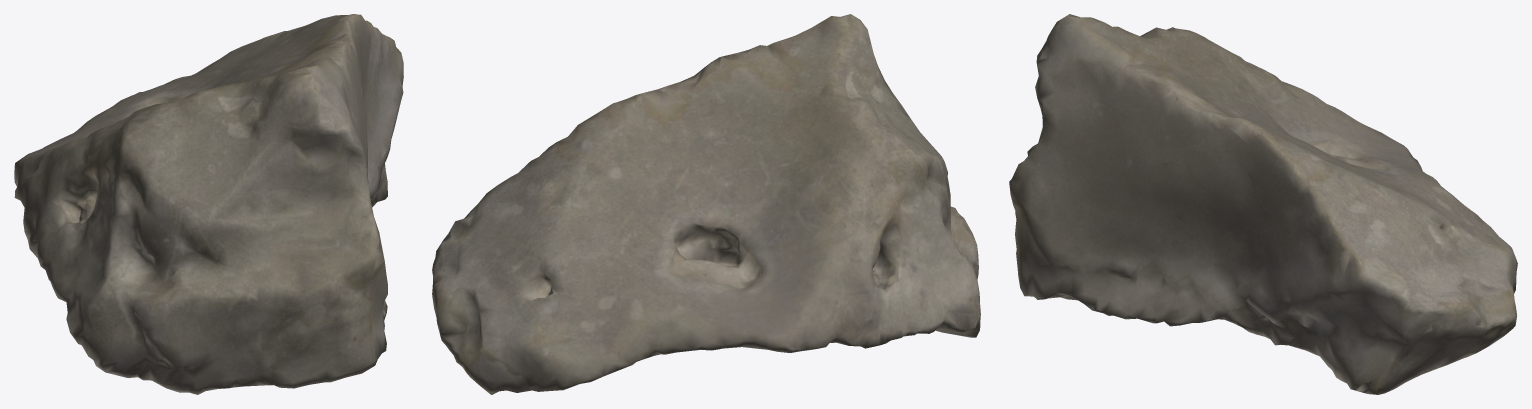
Rendered from moon_rock_06-transformed.glb.
3 views of the same model, side by side, from view 1: azimuth 30°, elevation 25°; view 2: azimuth 150°, elevation 25°; view 3: azimuth 270°, elevation 25° (orthographic). The views are drawn at different scales.
Parts seen in each view (by area): view 1: moon_rock_06_LOD0; view 2: moon_rock_06_LOD0; view 3: moon_rock_06_LOD0.
Part boxes in pixels (x1,y1,x2,y2): moon_rock_06_LOD0: [14, 14, 403, 394]; moon_rock_06_LOD0: [432, 14, 980, 394]; moon_rock_06_LOD0: [1009, 14, 1517, 394].
Bounding box in the file's own units: 0.0857 × 0.055 × 0.0918.
1 material, 1 textured.
